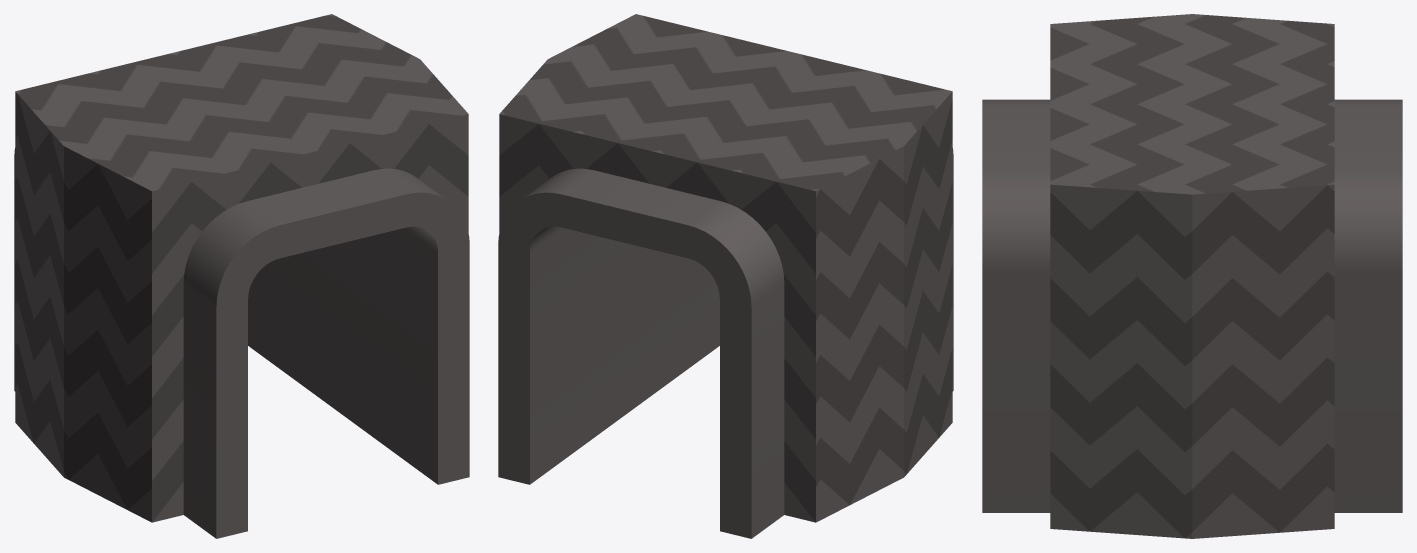
The model's file is Obstacle2.glb.
The picture shows the model from 3 angles, left to right: view 1: azimuth 30°, elevation 25°; view 2: azimuth 150°, elevation 25°; view 3: azimuth 270°, elevation 25°; orthographic projection. The views are drawn at different scales.
Visible parts, largest first — view 1: mergedBlocks(Clone); view 2: mergedBlocks(Clone); view 3: mergedBlocks(Clone).
Boxes of the visible parts, bbox=[...] form: mergedBlocks(Clone): bbox=[14, 14, 469, 538]; mergedBlocks(Clone): bbox=[498, 14, 953, 538]; mergedBlocks(Clone): bbox=[982, 14, 1402, 538].
Size of the model in its own units: 1.12 by 1 by 1.11.
2 materials, 1 textured.
